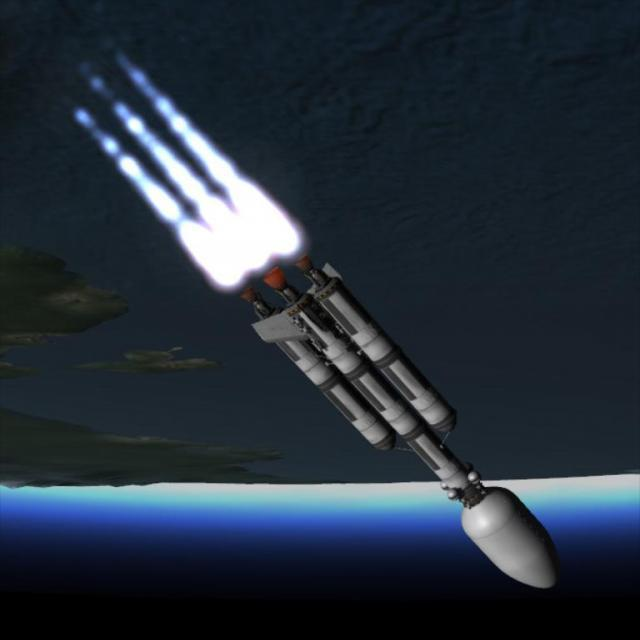Missile: (282, 242, 480, 453), (456, 492, 582, 600)
